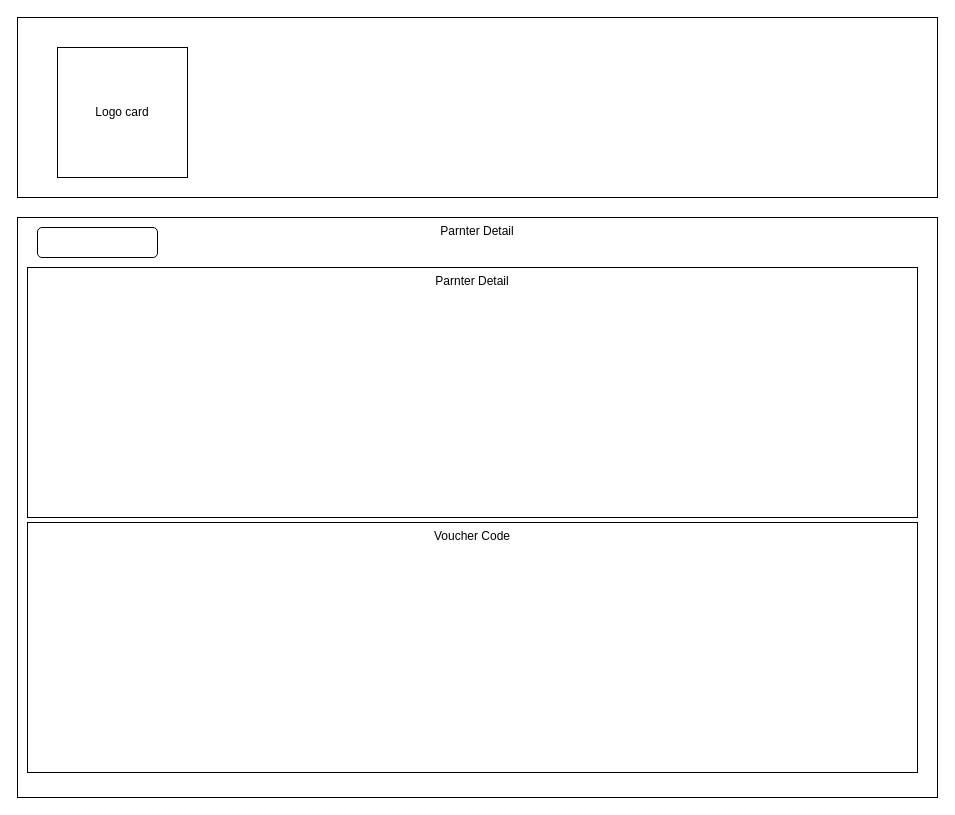
This 955x815 diagram has some shape labels left out. Here are the shapes that lost their labels. From the top down, the box of each, then its label:
(16, 16, 938, 198): Partner Panel
(36, 226, 158, 258): Back
